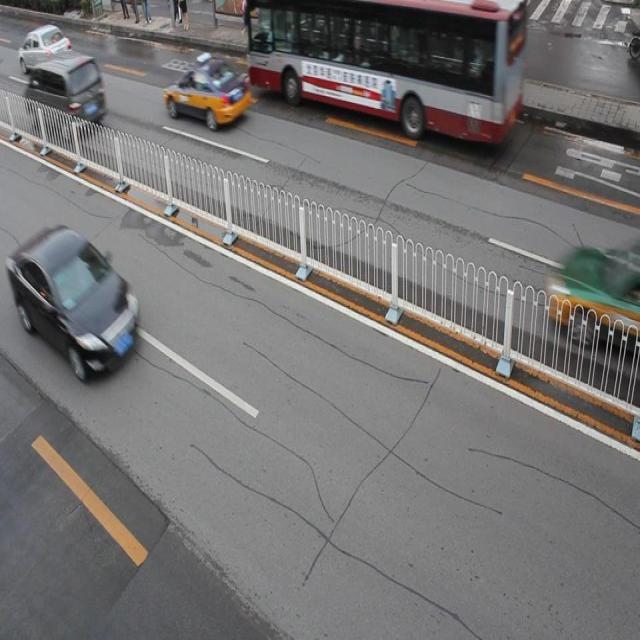car: (9, 222, 140, 369), (548, 241, 640, 350), (165, 57, 250, 129), (18, 24, 72, 74)
truck: (26, 52, 106, 133)
van: (245, 1, 523, 139)
